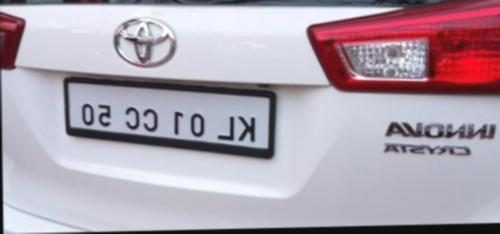License_Plate: (77, 91, 281, 146)
